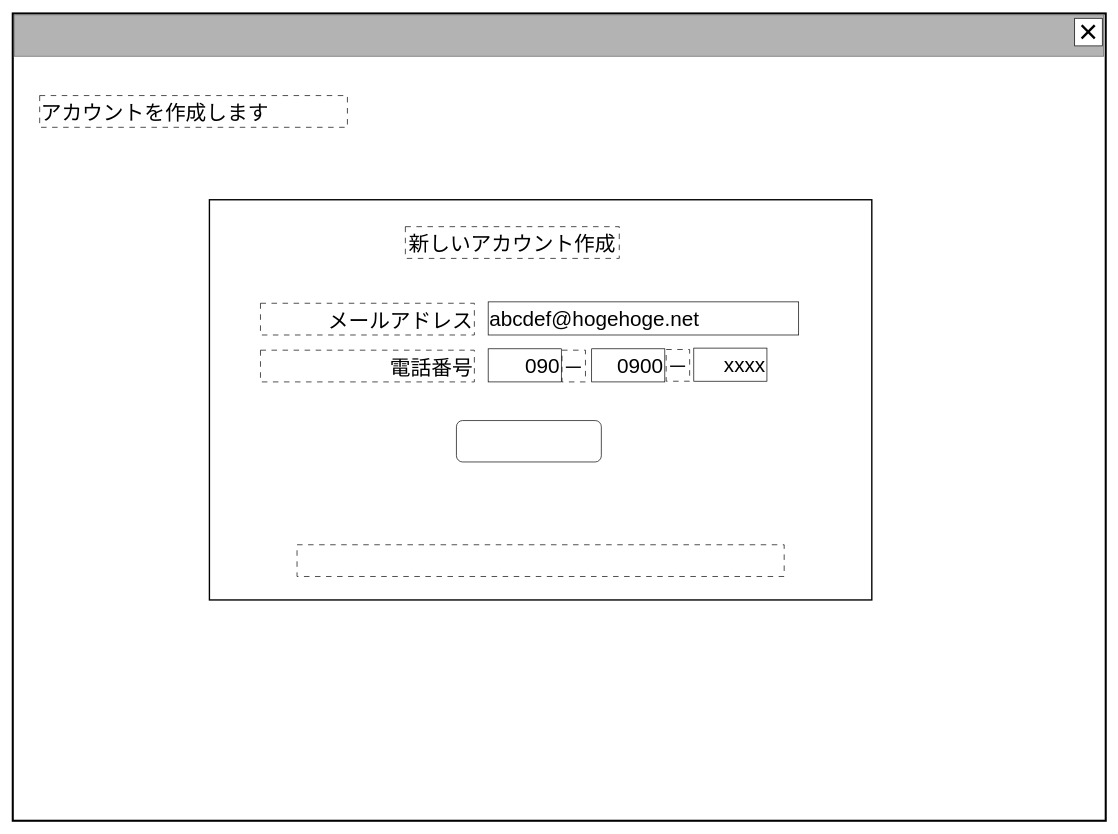
The diagram is 1118 pixels wide and 834 high, and some of its shapes have lost their labels. The shapes that lost their labels are listed below. From the top down, each one's box as (x1, y1, x2, y2) in pixels, then its label:
(456, 420, 601, 462): 申請
(296, 544, 784, 576): ※ログインページに戻る
